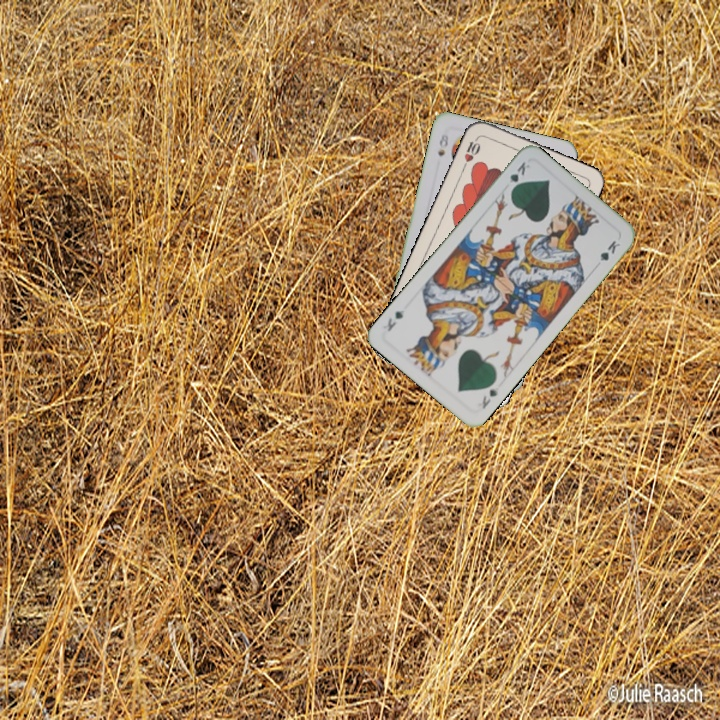GK: (505, 157, 533, 194), (478, 385, 500, 412)
H10: (459, 133, 483, 171)
S8: (433, 130, 451, 159)
